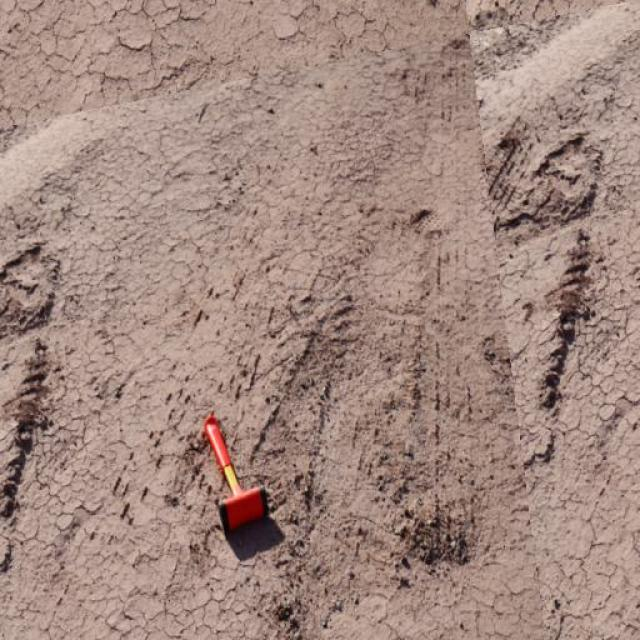mallet: (200, 410, 268, 532)
